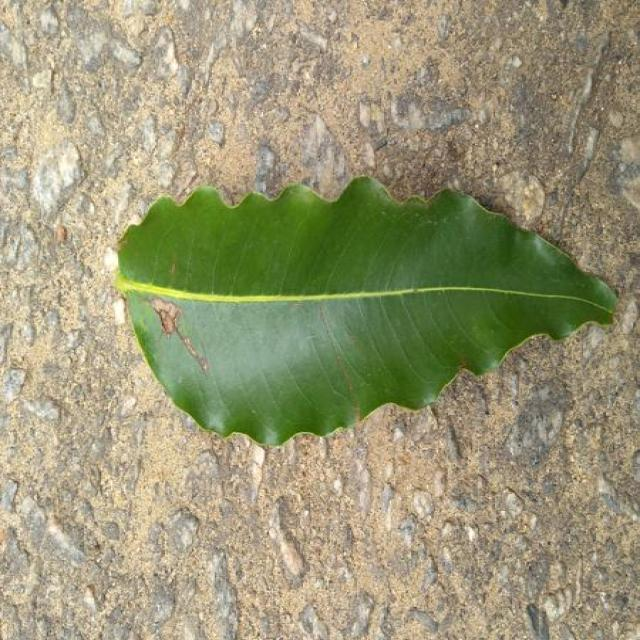ashoka: (118, 178, 615, 444)
defectedashoka: (117, 219, 293, 443)
